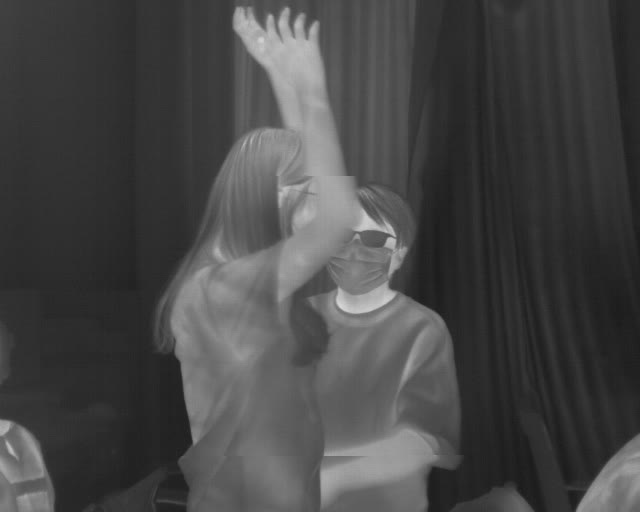face: (335, 179, 410, 293)
